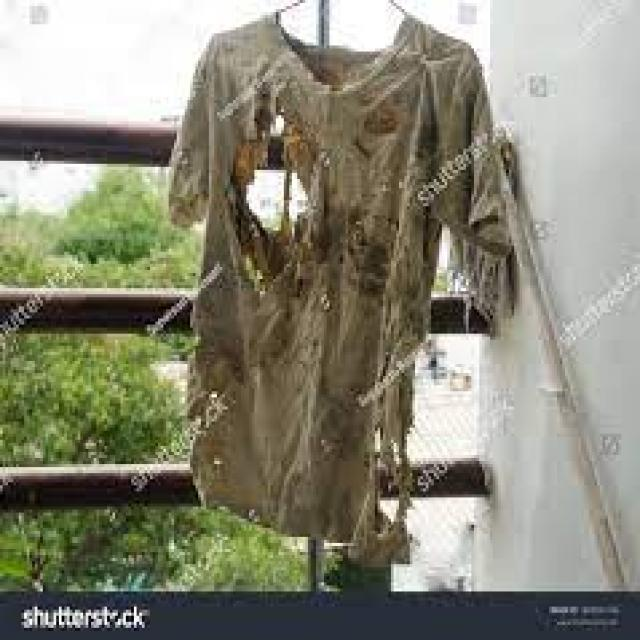Clothes -Biodegradable-: (164, 8, 512, 573)
